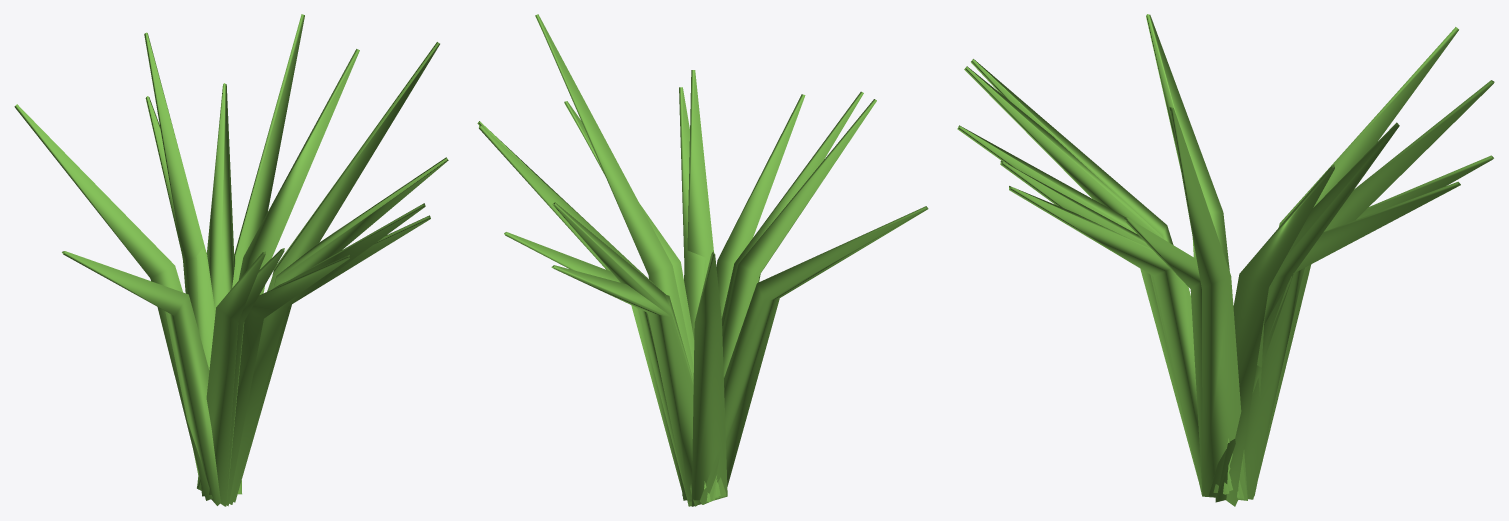
The model's file is grass_tuft.glb.
3 views of the same model, side by side, from view 1: azimuth 30°, elevation 25°; view 2: azimuth 150°, elevation 25°; view 3: azimuth 270°, elevation 25° (orthographic). The views are drawn at different scales.
Visible parts, largest first — view 1: blade0; view 2: blade0; view 3: blade0.
Boxes of the visible parts, x1=… form: blade0: x1=14, y1=14, x2=448, y2=506; blade0: x1=477, y1=14, x2=928, y2=506; blade0: x1=957, y1=14, x2=1494, y2=506.
Size of the model in its own units: 0.9715 by 1.02 by 0.994.
